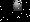person: (14, 2, 23, 15)
